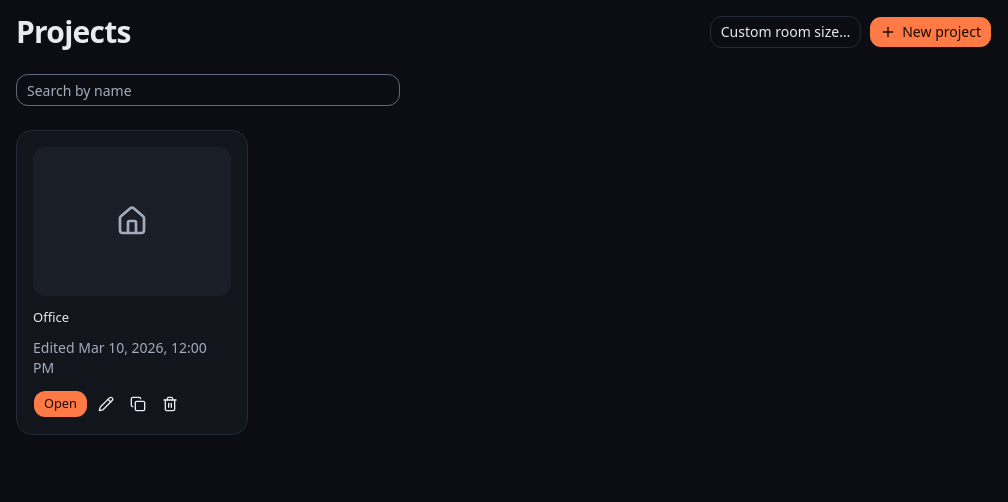
ProjectsScreen: rename › renames with the Save button, and Cancel leaves the name alone
Expected: the list named "Your projects" is shown, 16,130 -> 248,434
Click the button named "Rename Office" at (106, 404), box 92,390 -> 120,418
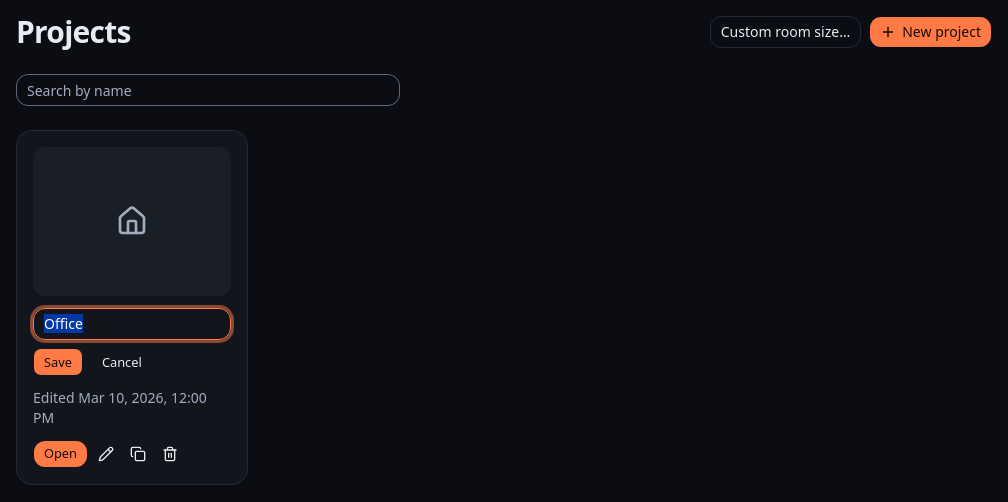
Type " 2" into the field named "Project name" at (132, 324), box 33,308 -> 231,340
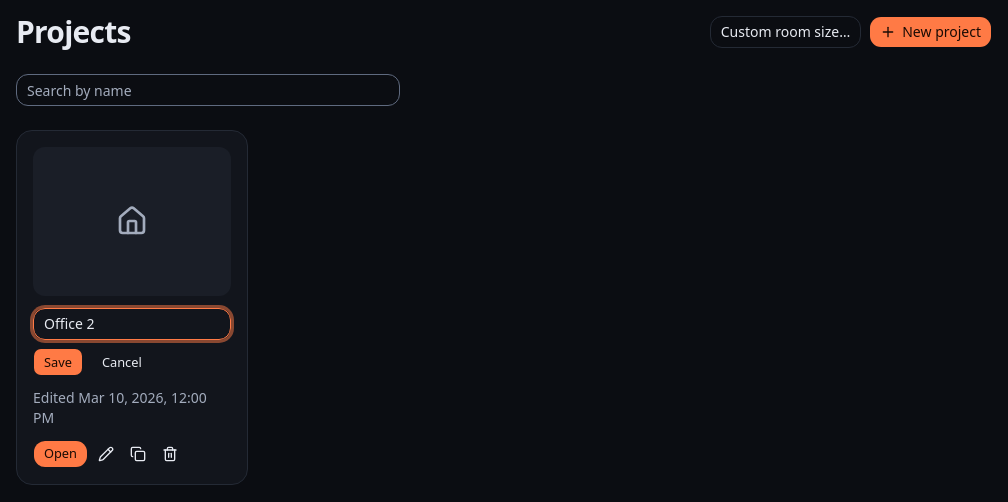
Click the button "Cancel" at (122, 362), box 91,348 -> 153,376
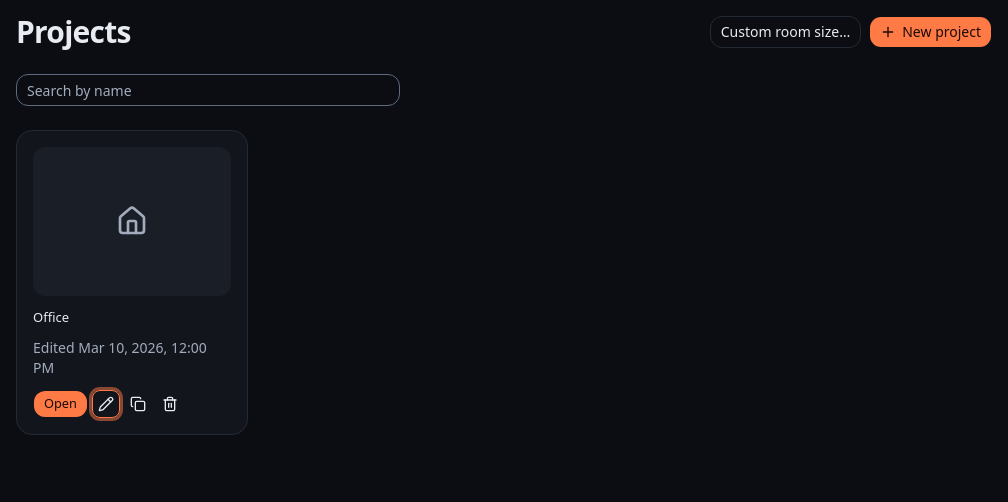
Now the heading "Office" is shown, box 33,308 -> 69,326
Click the button named "Rename Office" at (106, 404), box 92,390 -> 120,418
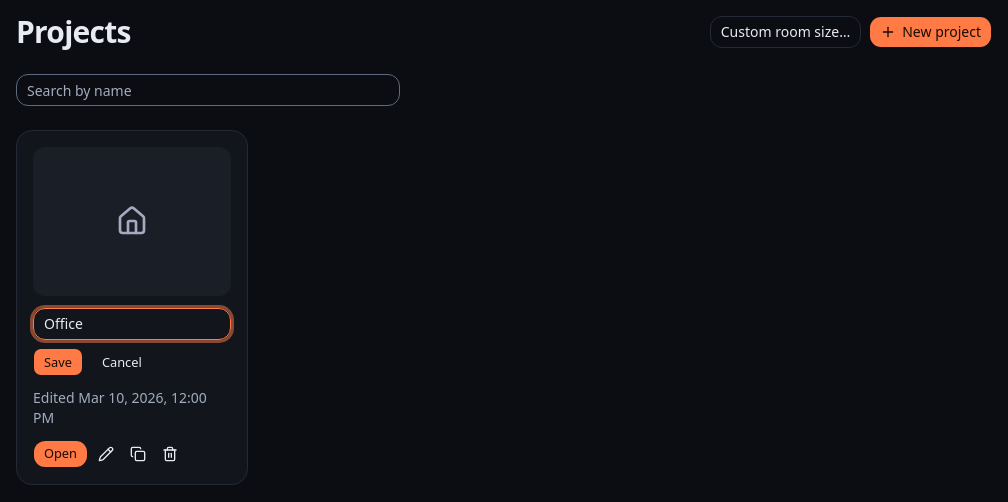
Type " 2" into the field named "Project name" at (132, 324), box 33,308 -> 231,340
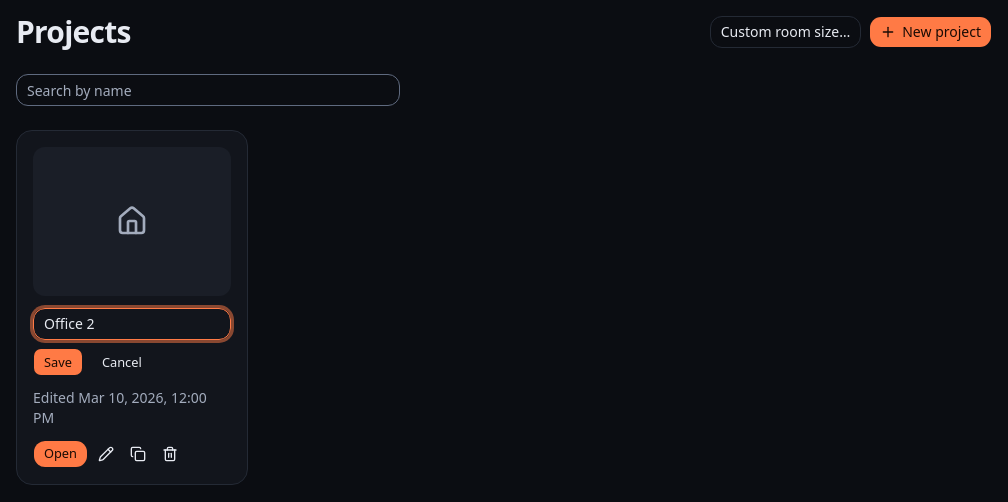
Click the button "Save" at (58, 362), box 33,348 -> 83,376
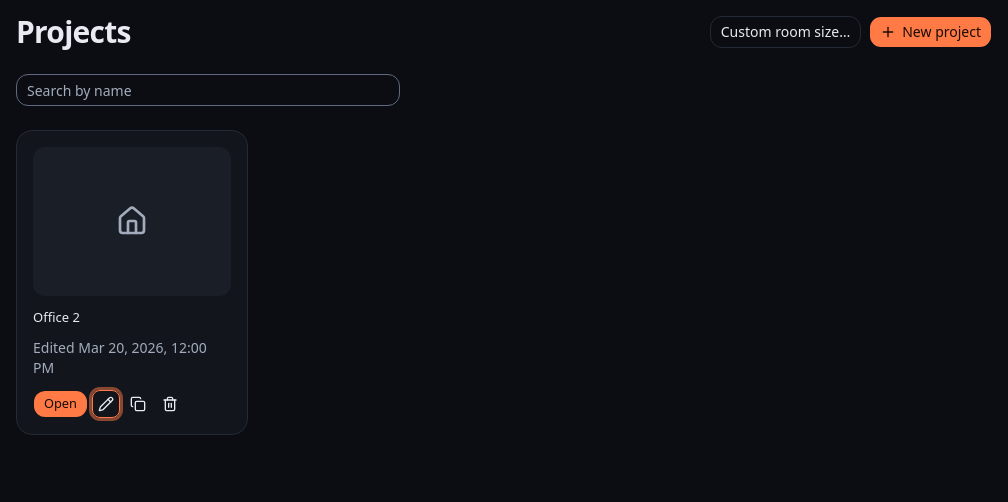
Now the heading "Office 2" is shown, box 33,308 -> 80,326
